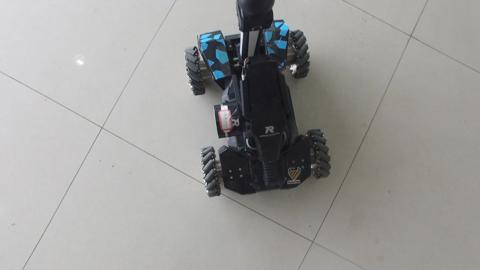chariot: (171, 2, 335, 201)
